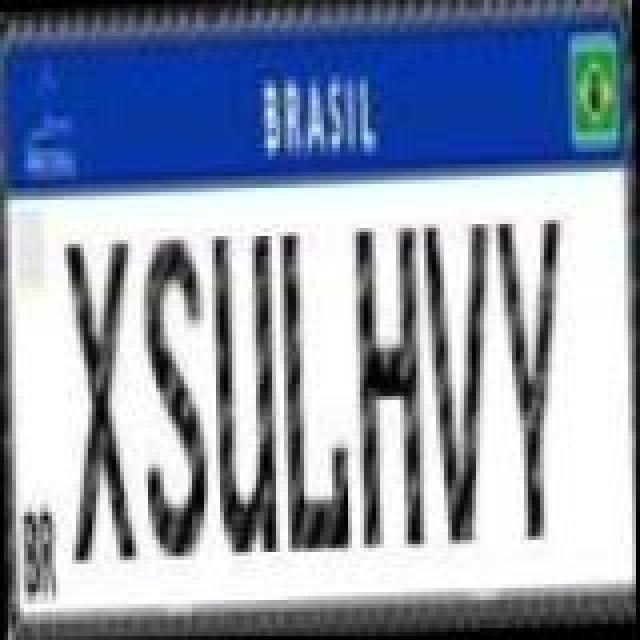H: (350, 222, 426, 550)
L: (274, 224, 350, 552)
S: (138, 230, 214, 558)
U: (208, 230, 280, 554)
V: (418, 218, 494, 546)
X: (60, 234, 140, 562)
Y: (488, 214, 568, 542)
